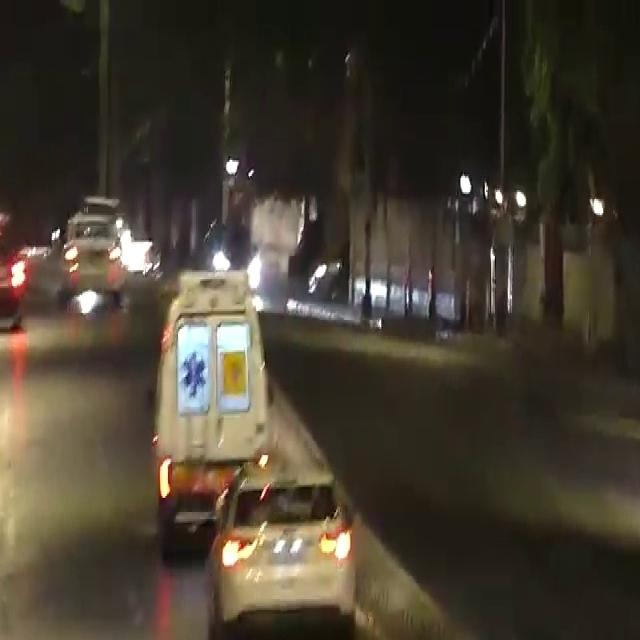ambulance: (149, 285, 260, 525)
